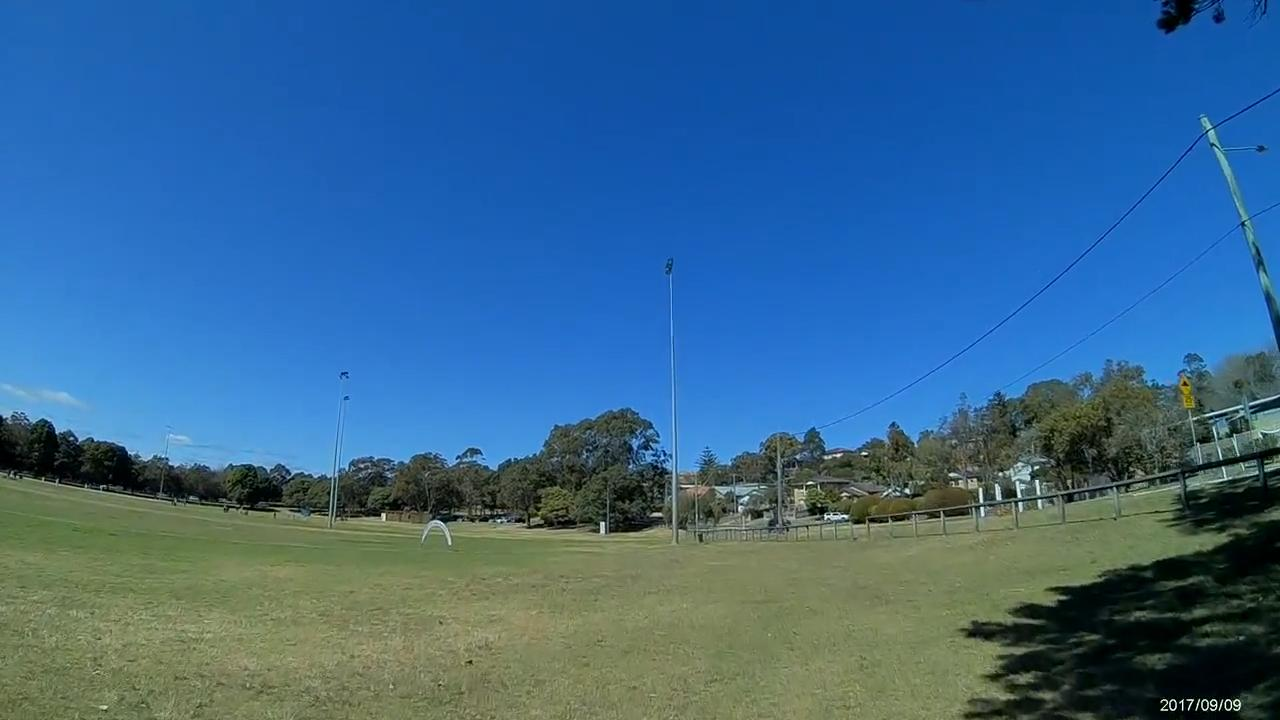gate: (416, 520, 453, 548)
